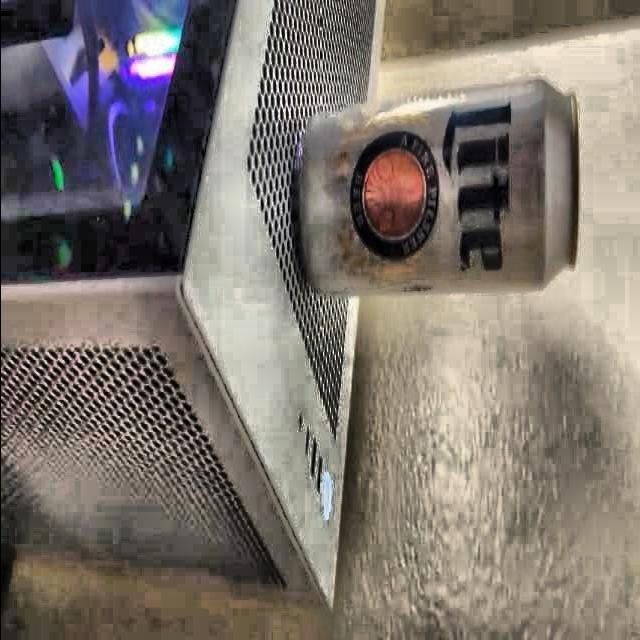Aluminum Can: (287, 75, 584, 313)
